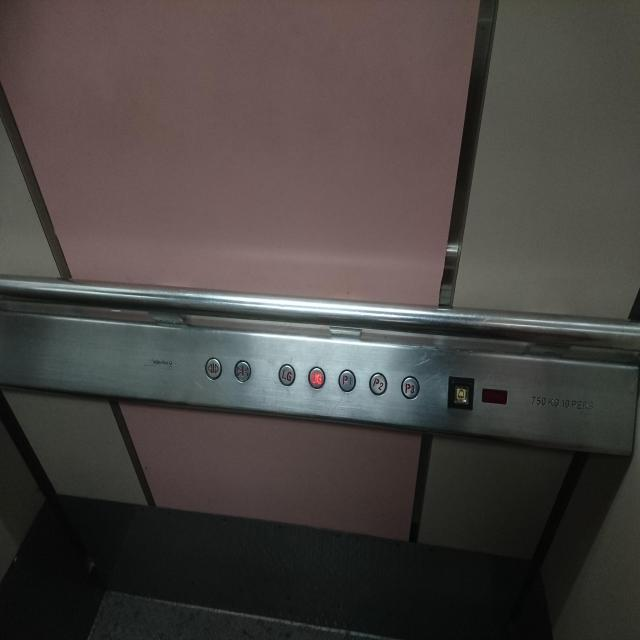LG: (277, 362, 297, 388)
P1: (337, 367, 357, 393)
P2: (368, 370, 388, 397)
P3: (400, 373, 422, 401)
UG: (306, 364, 326, 391)
alarm: (446, 372, 476, 414)
close: (232, 358, 252, 384)
led: (480, 385, 509, 407)
open: (203, 355, 223, 381)
